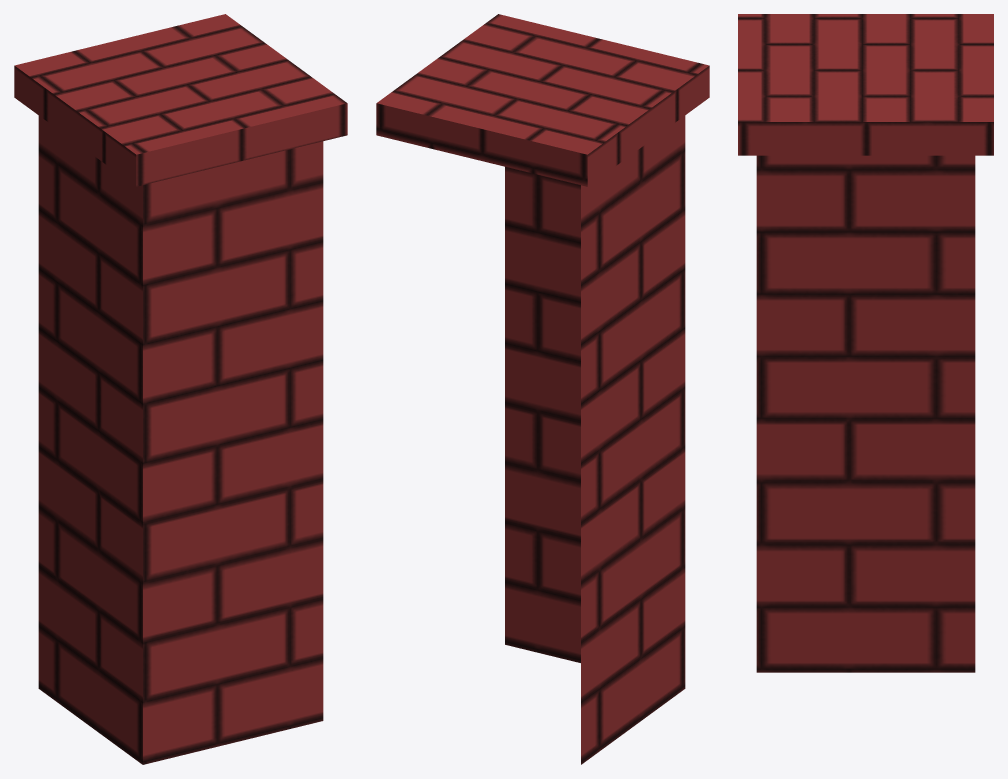
The model's file is fence_corner.FBX.
The picture shows the model from 3 angles, left to right: view 1: azimuth 30°, elevation 25°; view 2: azimuth 150°, elevation 25°; view 3: azimuth 270°, elevation 25°; orthographic projection. The views are drawn at different scales.
Visible parts, largest first — view 1: fence_corner; view 2: fence_corner; view 3: fence_corner.
Part boxes in pixels (<box>): fence_corner: <box>14,14,347,764</box>; fence_corner: <box>376,14,709,764</box>; fence_corner: <box>738,14,993,672</box>.
Bounding box in the file's own units: 55.05 × 155 × 55.05.
